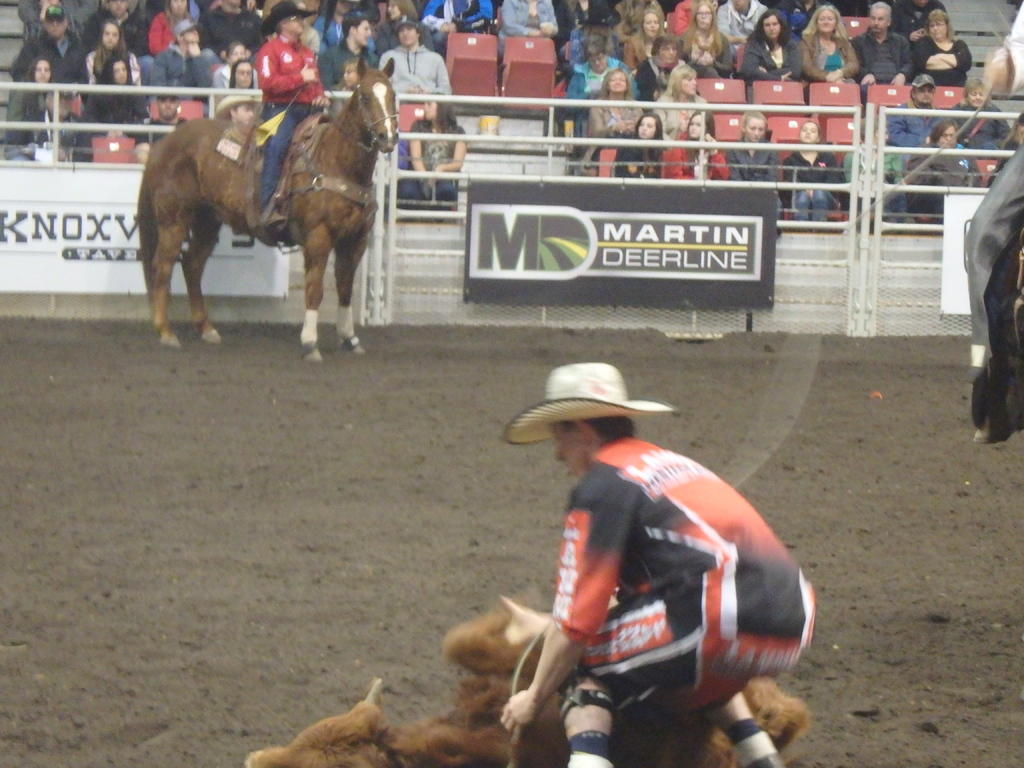Person: (6, 0, 1024, 231), (500, 362, 819, 768)
